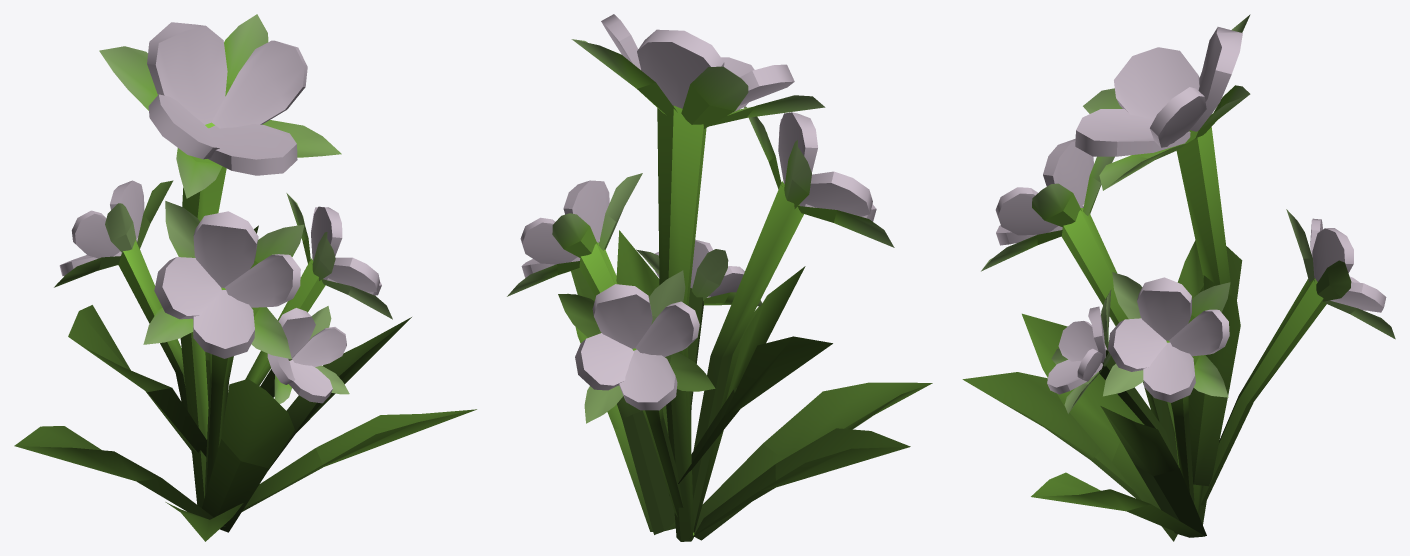
File: Flowers_Type1.fbx
3 renders of one model, left to right at view 1: azimuth 30°, elevation 25°; view 2: azimuth 150°, elevation 25°; view 3: azimuth 270°, elevation 25°, orthographic. The views are drawn at different scales.
Parts seen in each view (by area): view 1: Flowers_Type1; view 2: Flowers_Type1; view 3: Flowers_Type1.
Part boxes in pixels (left/top/right/bottom): Flowers_Type1: left=14, top=14, right=476, bottom=541; Flowers_Type1: left=507, top=14, right=932, bottom=541; Flowers_Type1: left=962, top=14, right=1395, bottom=541.
Size of the model in its own units: 122 by 146 by 116.
